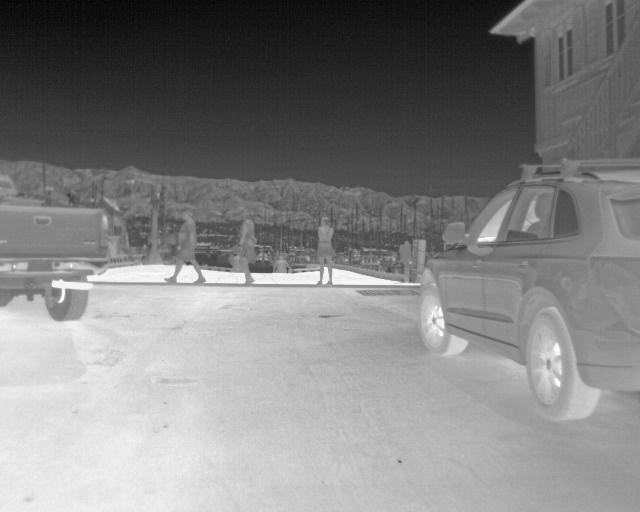bicycle: (415, 155, 636, 424), (0, 175, 118, 322)
empty: (163, 208, 208, 284), (316, 214, 337, 285), (235, 212, 256, 283), (267, 253, 293, 275)
